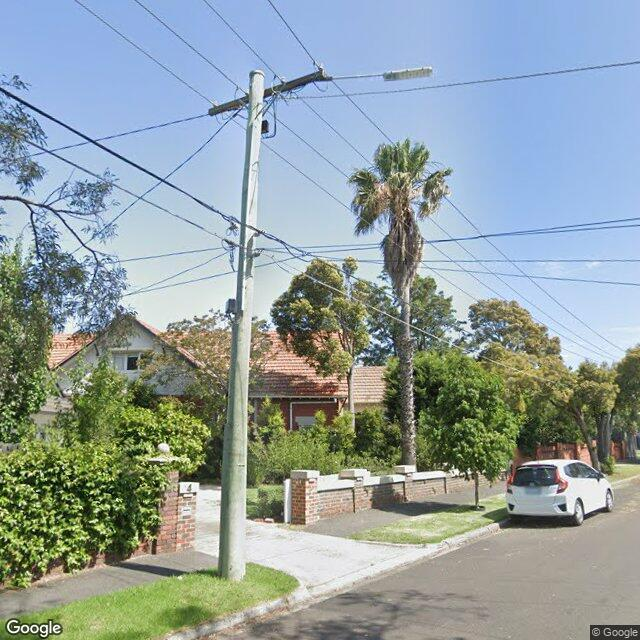crossarm: (208, 70, 324, 116)
streetlight: (323, 67, 432, 82)
timber-pole: (217, 70, 265, 582)
